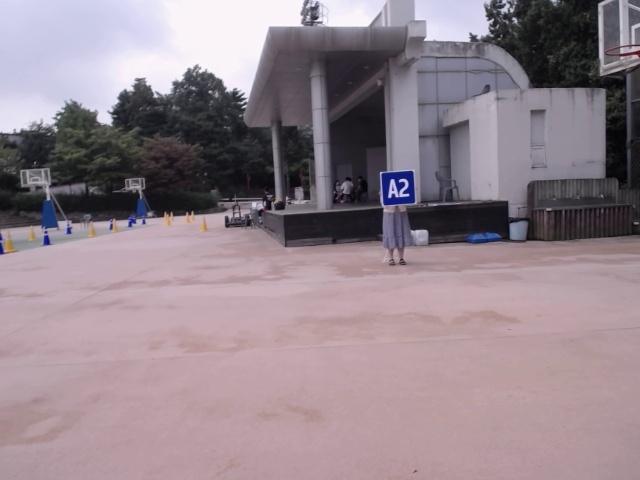delivery_a2: (381, 171, 416, 206)
